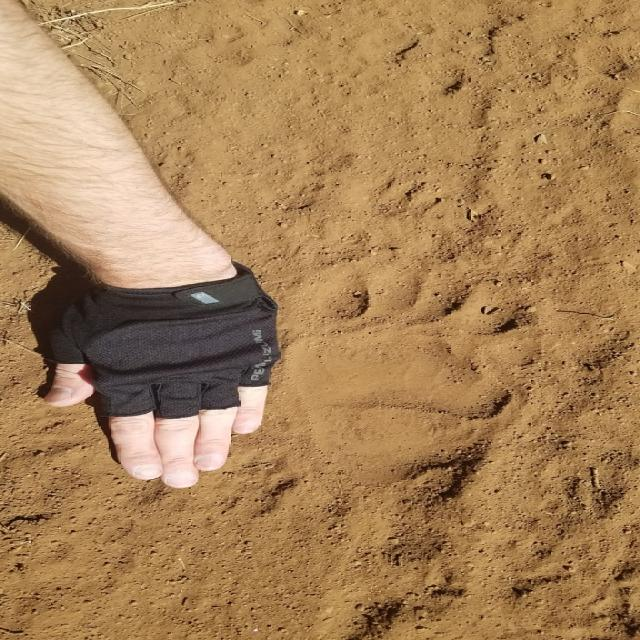bear: (302, 271, 529, 420)
